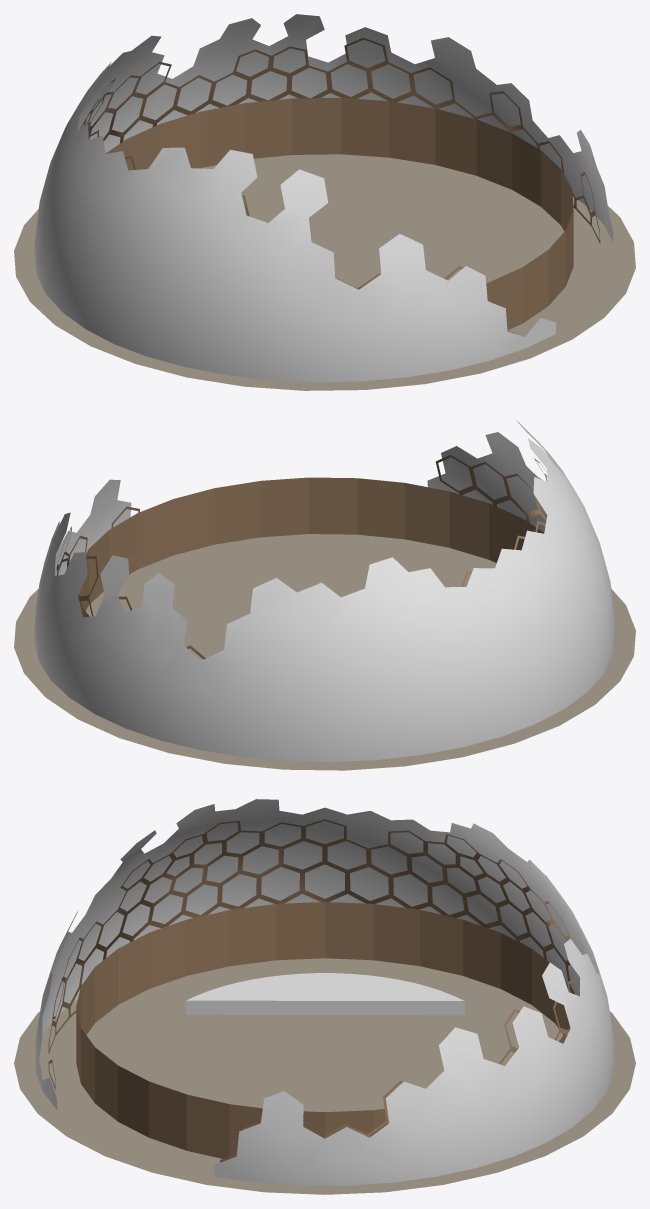
The model's file is BOD_v3_Env.glb.
3 renders of one model, top to bottom at view 1: azimuth 30°, elevation 25°; view 2: azimuth 150°, elevation 25°; view 3: azimuth 270°, elevation 25°, orthographic.
Visible parts, largest first — view 1: Dome.002, 円, 円柱, Dome.004; view 2: Dome.002, 円, 円柱, Dome.004; view 3: Dome.002, 円, 円柱, Dome.004, Stage.
Part boxes in pixels (<box>): Dome.002: <box>34,14,613,382</box>; 円: <box>14,154,635,390</box>; 円柱: <box>105,98,573,330</box>; Dome.004: <box>80,37,600,333</box>; Dome.002: <box>34,419,615,761</box>; 円: <box>14,534,635,770</box>; 円柱: <box>79,477,544,617</box>; Dome.004: <box>55,454,547,659</box>; Dome.002: <box>35,799,614,1185</box>; 円: <box>14,958,635,1194</box>; 円柱: <box>76,902,570,1158</box>; Dome.004: <box>48,819,579,1162</box>; Stage: <box>186,973,464,1015</box>.
Size of the model in its own units: 2 by 0.6616 by 2.
